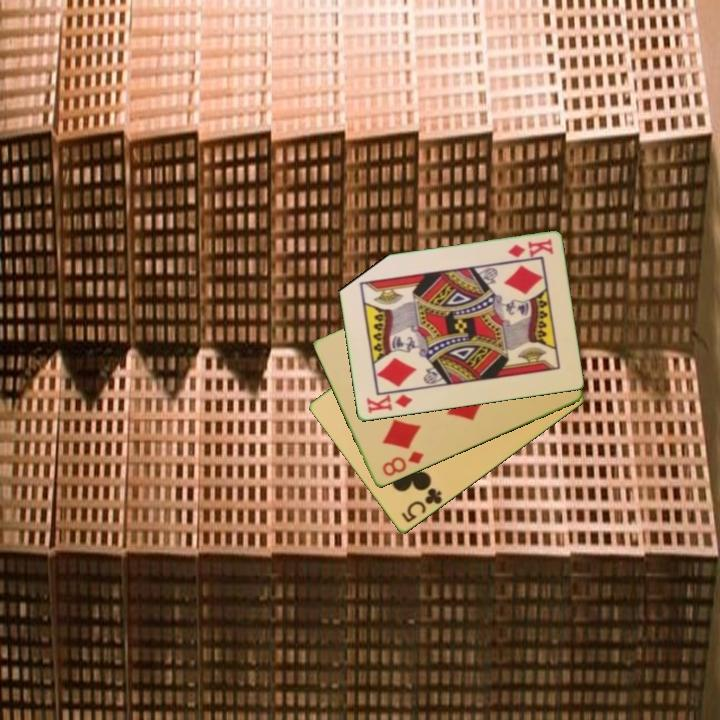5c: (397, 484, 445, 526)
8d: (378, 448, 427, 480)
Kd: (363, 391, 415, 417), (504, 236, 556, 261)
